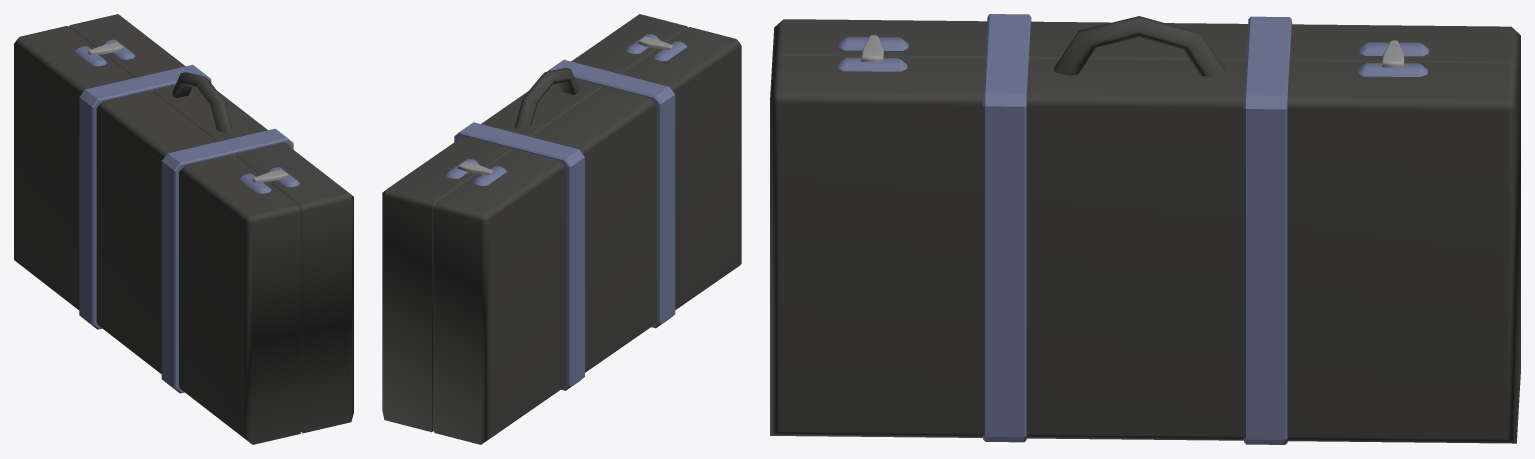
File: Valija.fbx
3 renders of one model, left to right at view 1: azimuth 30°, elevation 25°; view 2: azimuth 150°, elevation 25°; view 3: azimuth 270°, elevation 25°, orthographic. The views are drawn at different scales.
Parts seen in each view (by area): view 1: Valija; view 2: Valija; view 3: Valija.
Boxes of the visible parts, box(x1,y1,x2,y2) form: Valija: box(14, 14, 353, 444); Valija: box(382, 14, 741, 444); Valija: box(770, 14, 1520, 444).
Size of the model in its own units: 88.22 by 181 by 310.
1 material, 1 textured.
